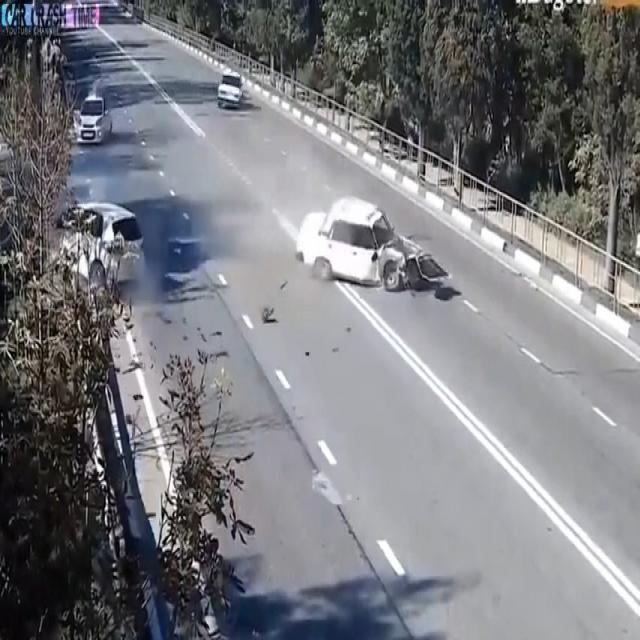Accident: (282, 140, 437, 330), (25, 144, 150, 312)
